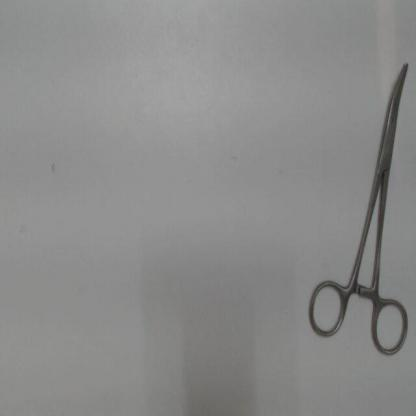Crile Artery Forceps: (302, 56, 413, 362)
